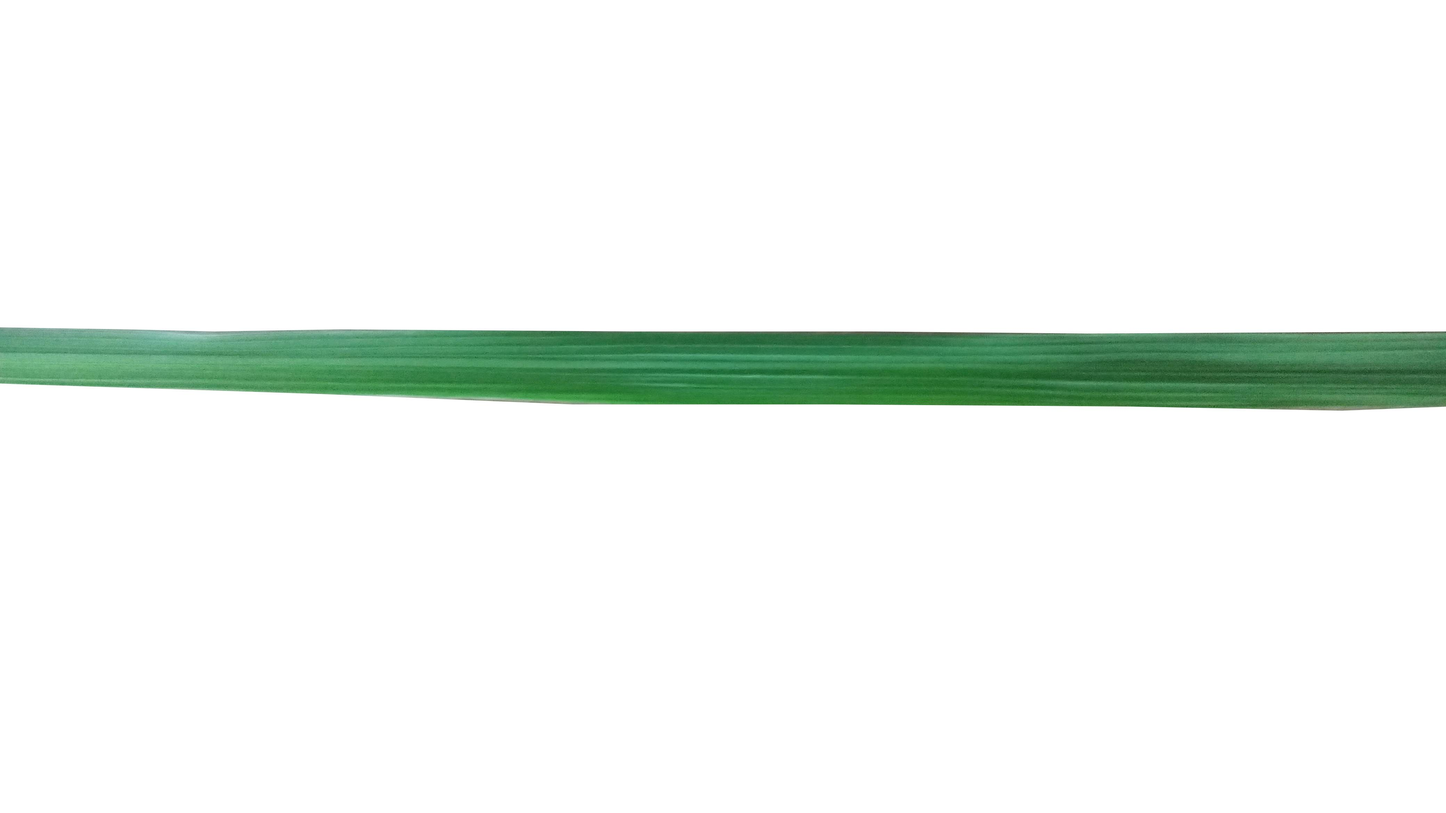Healthy: (0, 328, 1446, 409)
